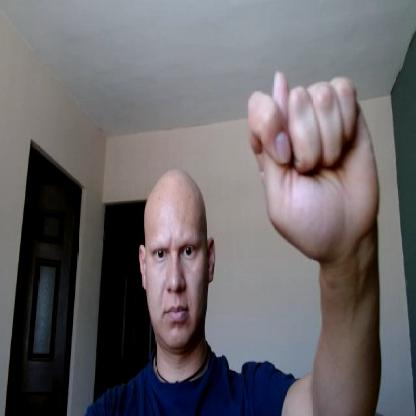T: (246, 65, 382, 263)
